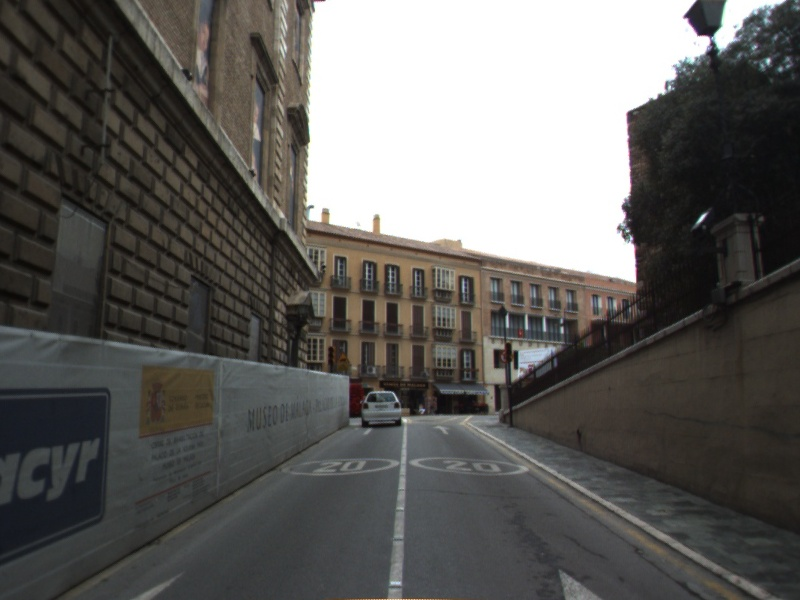STRAIGHT: (430, 423, 453, 436)
